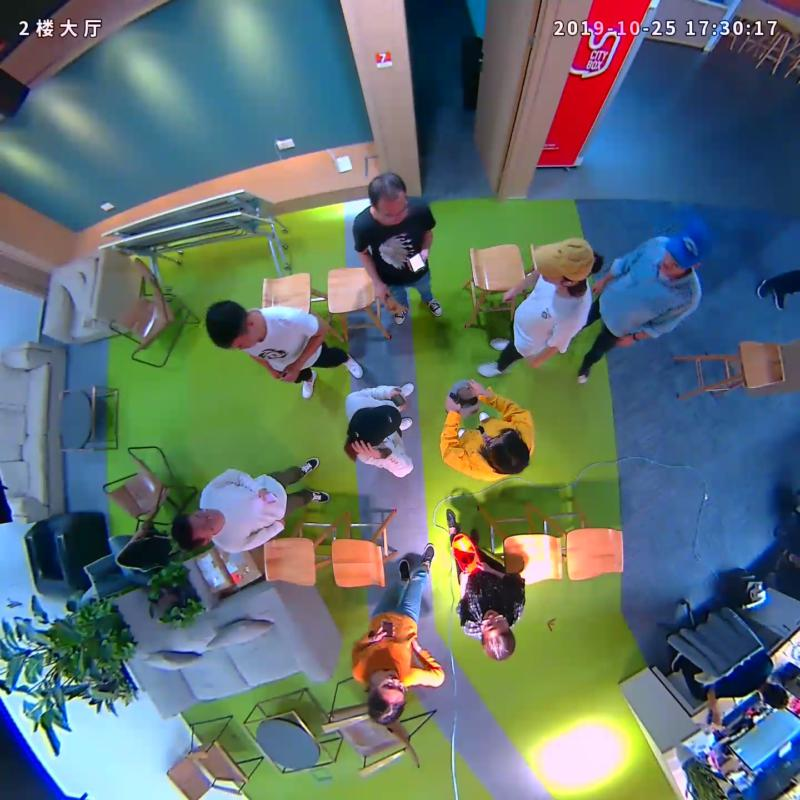head: (530, 236, 595, 290), (657, 223, 711, 279), (205, 300, 258, 350), (347, 403, 403, 447), (368, 668, 407, 725), (484, 427, 530, 474), (171, 509, 221, 552), (367, 172, 409, 223), (480, 610, 517, 663)
